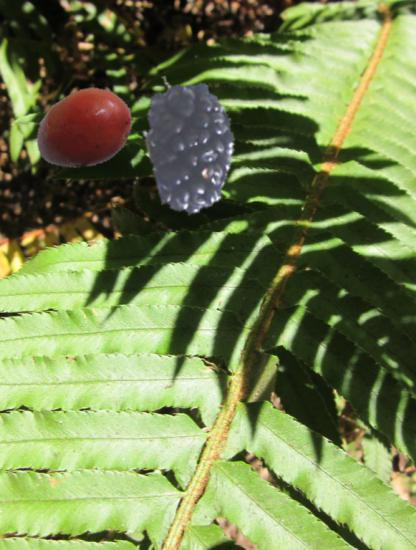Mulberry: (130, 67, 274, 211)
Potato: (34, 78, 134, 178)
